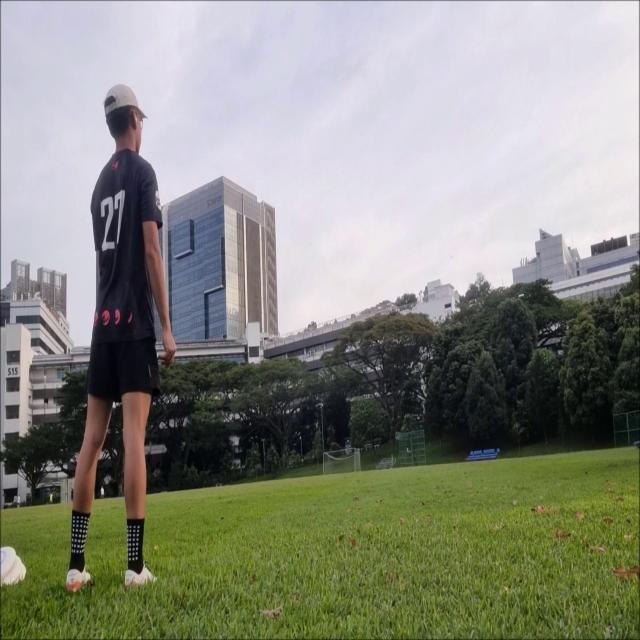disc: (518, 293, 525, 298)
